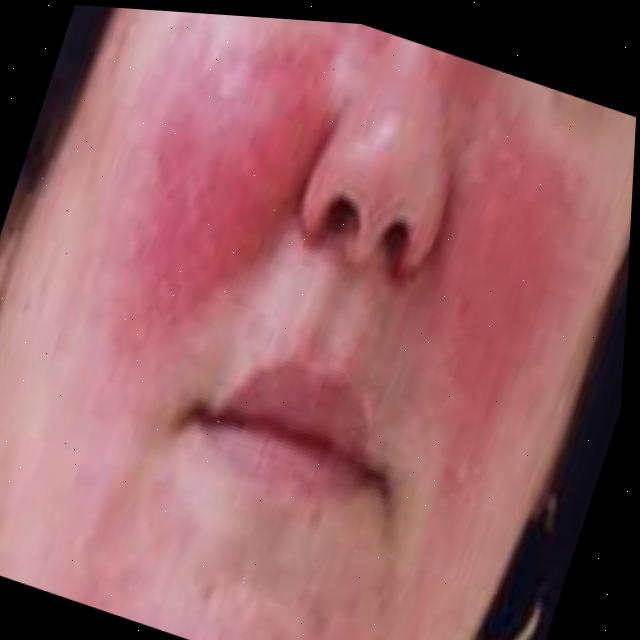Rosacea: (88, 7, 602, 461)
